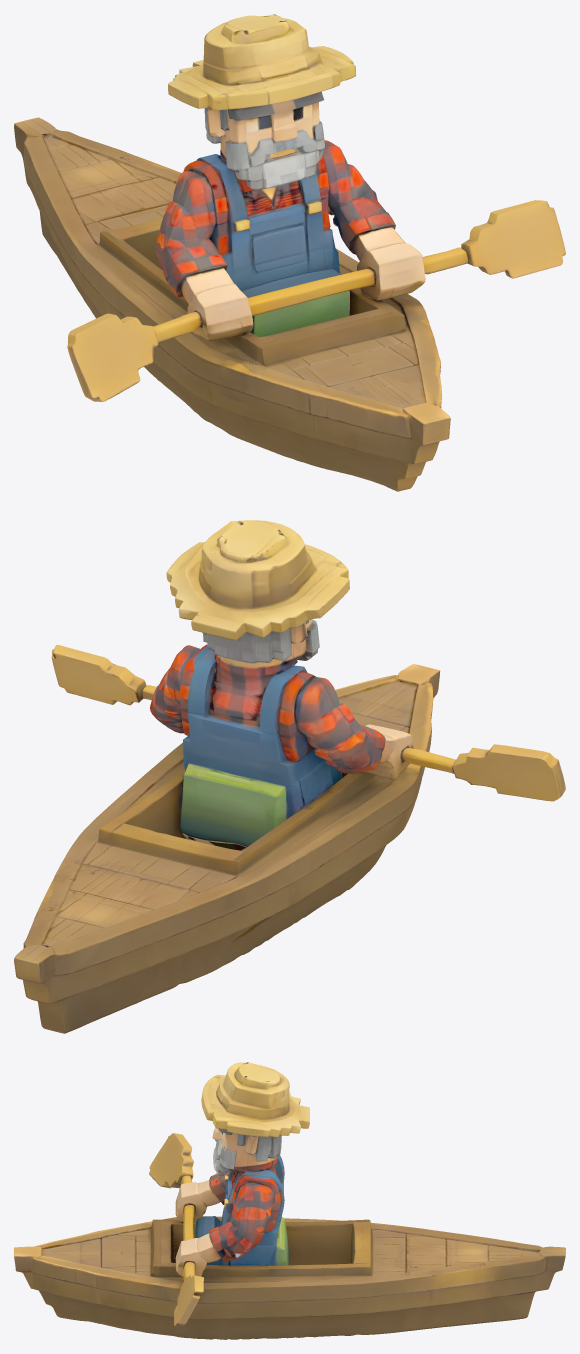
The model's file is kayaker-bright.glb.
3 views of the same model, one above another, from view 1: azimuth 30°, elevation 25°; view 2: azimuth 150°, elevation 25°; view 3: azimuth 270°, elevation 25° (orthographic). The views are drawn at different scales.
Parts seen in each view (by area): view 1: root.0, root.1, root.2, root.5, root.3, root.4, root.7, root.6, root.8; view 2: root.0, root.1, root.2, root.5, root.3, root.6, root.7, root.4, root.8; view 3: root.0, root.2, root.4, root.1, root.3, root.6, root.5, root.7, root.8.
Part boxes in pixels (left/top/right/bottom): root.0: left=14, top=117, right=450, bottom=491; root.1: left=183, top=154, right=349, bottom=336; root.2: left=168, top=14, right=356, bottom=110; root.5: left=155, top=171, right=253, bottom=340; root.3: left=204, top=91, right=324, bottom=211; root.4: left=323, top=140, right=425, bottom=300; root.7: left=461, top=200, right=565, bottom=278; root.6: left=67, top=313, right=158, bottom=401; root.8: left=153, top=247, right=467, bottom=342; root.0: left=14, top=664, right=440, bottom=1033; root.1: left=180, top=644, right=341, bottom=850; root.2: left=166, top=520, right=349, bottom=640; root.5: left=294, top=676, right=413, bottom=778; root.3: left=202, top=619, right=319, bottom=719; root.6: left=452, top=744, right=565, bottom=801; root.7: left=51, top=644, right=146, bottom=705; root.4: left=150, top=645, right=199, bottom=733; root.8: left=142, top=685, right=455, bottom=773; root.0: left=14, top=1216, right=565, bottom=1339; root.2: left=201, top=1062, right=309, bottom=1137; root.4: left=175, top=1182, right=274, bottom=1277; root.1: left=194, top=1155, right=288, bottom=1265; root.3: left=212, top=1127, right=281, bottom=1188; root.6: left=149, top=1133, right=193, bottom=1188; root.5: left=175, top=1170, right=229, bottom=1223; root.7: left=174, top=1274, right=203, bottom=1326; root.8: left=181, top=1175, right=194, bottom=1280.
Size of the model in its own units: 1.34 by 0.9329 by 1.9.
9 materials, 9 textured.
